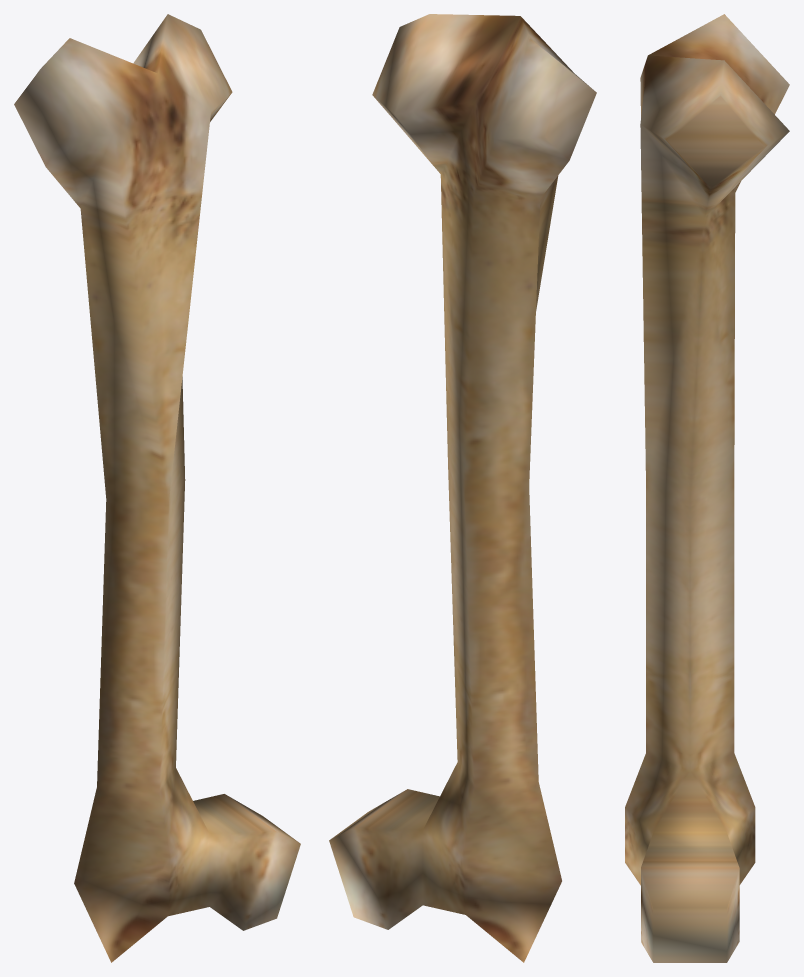
File: Bone_Missile.FBX
3 views of the same model, side by side, from view 1: azimuth 30°, elevation 25°; view 2: azimuth 150°, elevation 25°; view 3: azimuth 270°, elevation 25° (orthographic). The views are drawn at different scales.
Parts seen in each view (by area): view 1: Bone_Missile; view 2: Bone_Missile; view 3: Bone_Missile.
Part boxes in pixels (x1,y1,x2,y2): Bone_Missile: [14, 14, 300, 962]; Bone_Missile: [329, 14, 596, 962]; Bone_Missile: [625, 14, 789, 962].
Size of the model in its own units: 40.79 by 156 by 26.11.
Materials: 1 (1 with a texture image).
